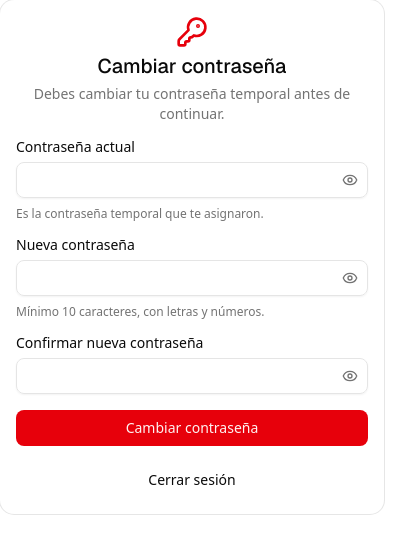
Test: ChangePasswordForm (RN-014, FR-009, FR-010) › rechaza una confirmación distinta
Type "Temporal123" into the password field labelled "Contraseña actual". click: (192, 180)
box: [16, 162, 368, 198]
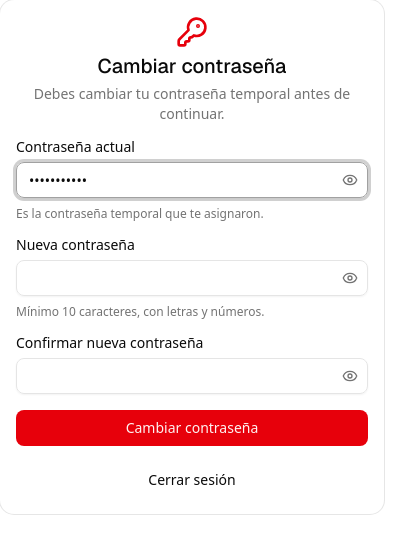
Type "NuevaClave2026" into the password field labelled "Nueva contraseña". click: (192, 278)
box: [16, 260, 368, 296]
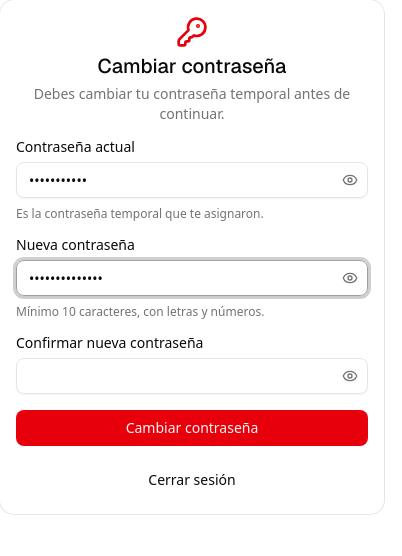
Type "NuevaClave2027" into the password field labelled "Confirmar nueva contraseña". click: (192, 376)
box: [16, 358, 368, 394]
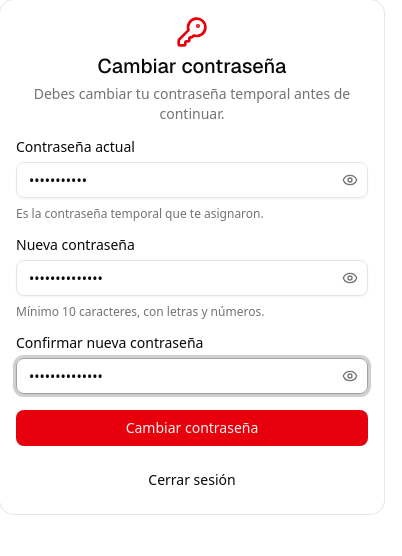
Click the button "Cambiar contraseña". click: (192, 428)
box: [16, 410, 368, 446]
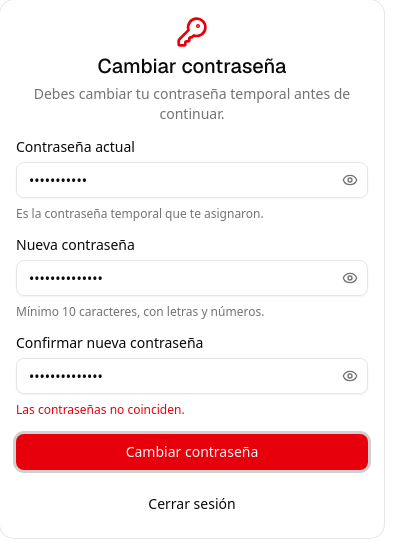
Check: the text "Las contraseñas no coinciden." is shown, box [16, 401, 185, 418]
